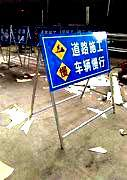sign: (43, 33, 110, 82)
